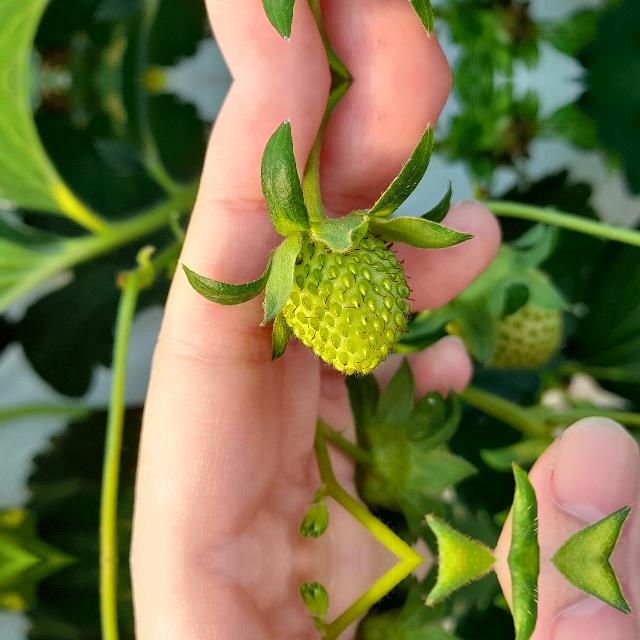Health_25: (281, 226, 415, 380)
